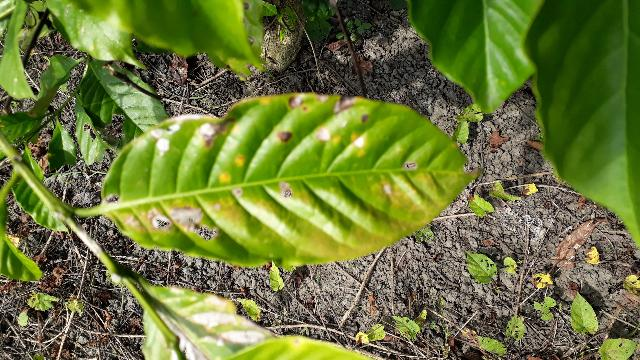rust_level_3: (98, 86, 488, 273)
